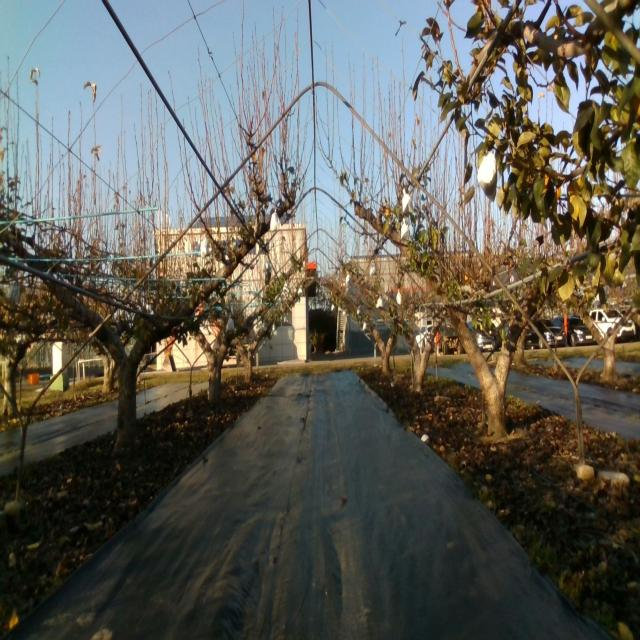pearbags: (477, 153, 498, 200), (399, 218, 412, 244), (402, 188, 414, 216), (269, 209, 282, 232), (200, 236, 212, 258)
